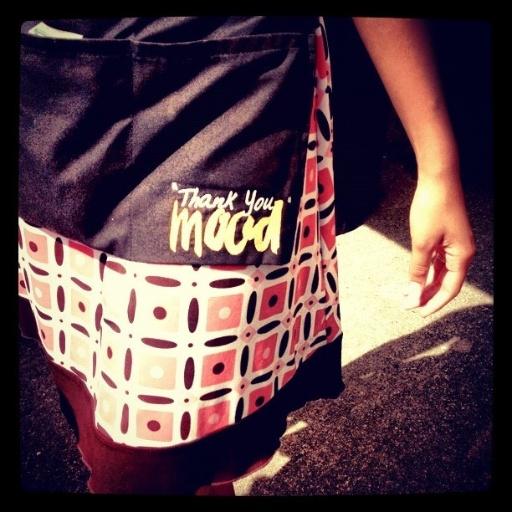hand: (411, 171, 482, 325)
